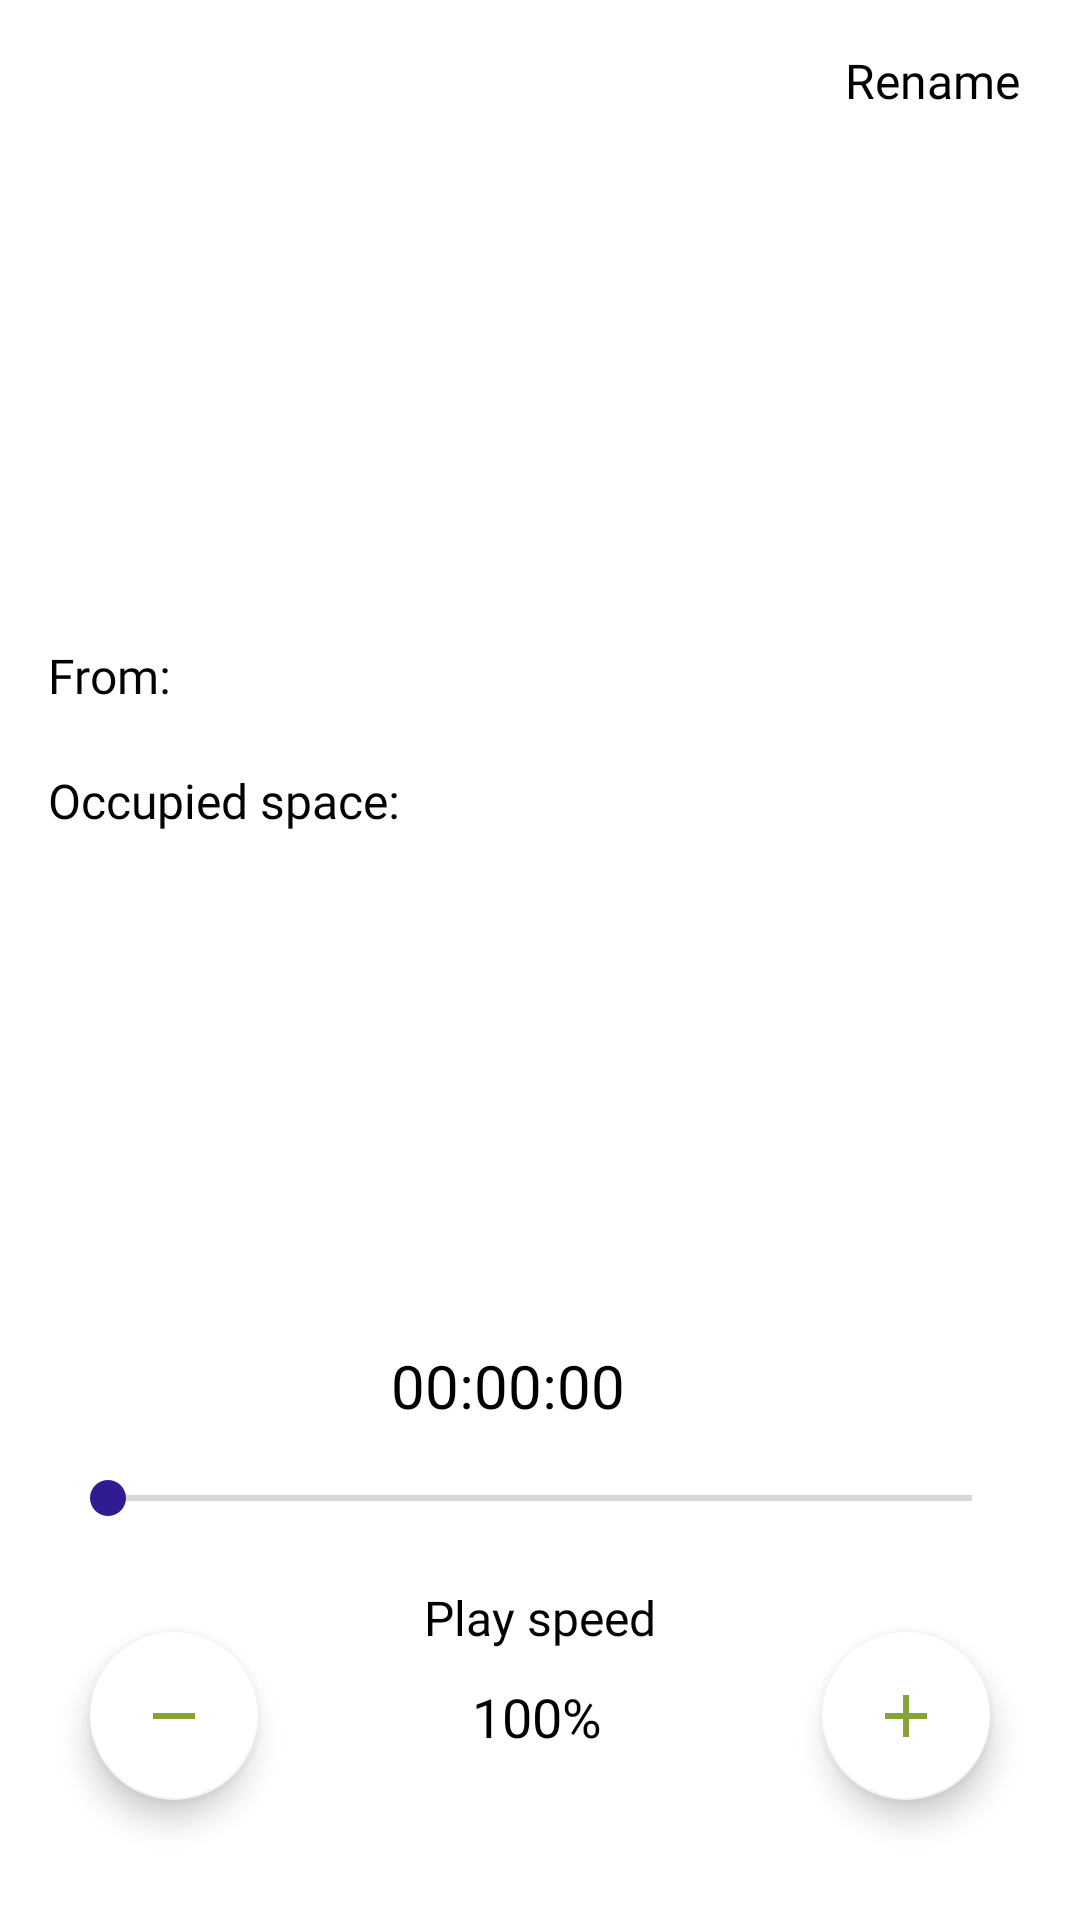

Locate icon controls on the screen. Image size 1080x1920, boxes as bbox(x1, y1, x2, y2).
playback speed minus: bbox(90, 1713, 253, 1800)
playback speed plus: bbox(827, 1695, 990, 1800)
